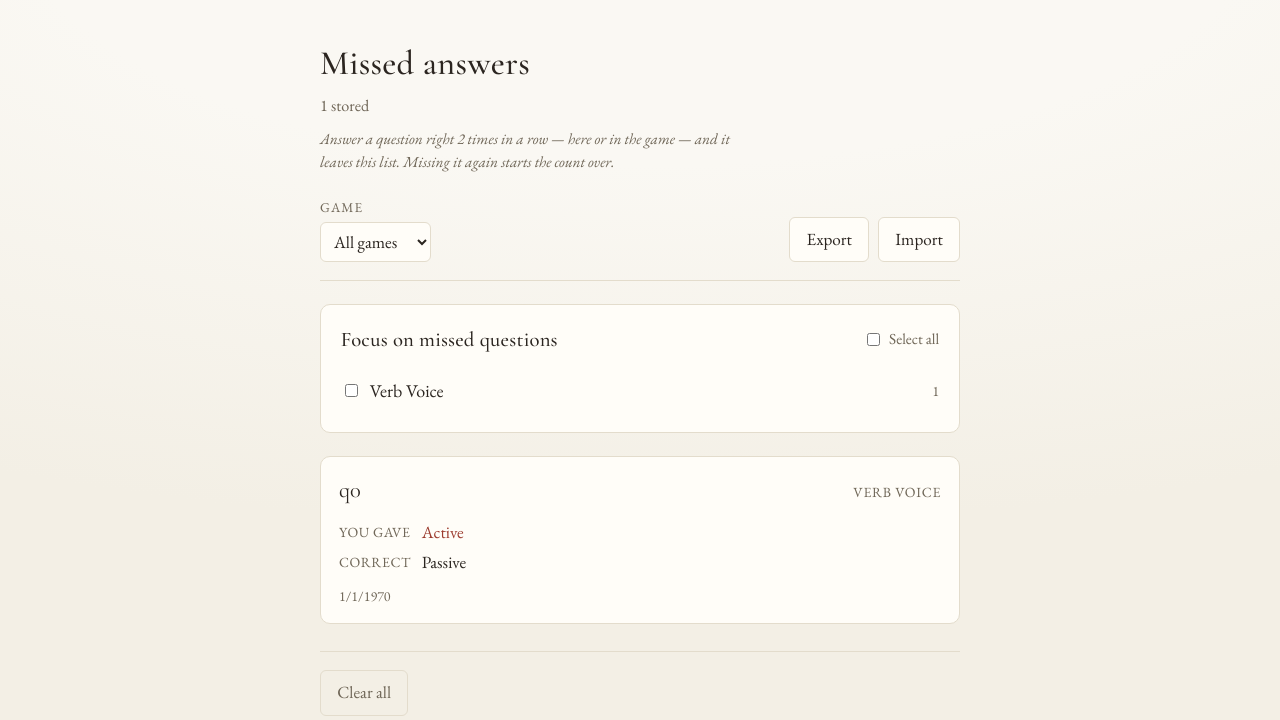
Scenario: Review › keeps everything when the confirmation is cancelled
The width and height of the screenshot is (1280, 720).
Click the button "Clear all" at {"x": 364, "y": 693}, box [320, 670, 408, 716]
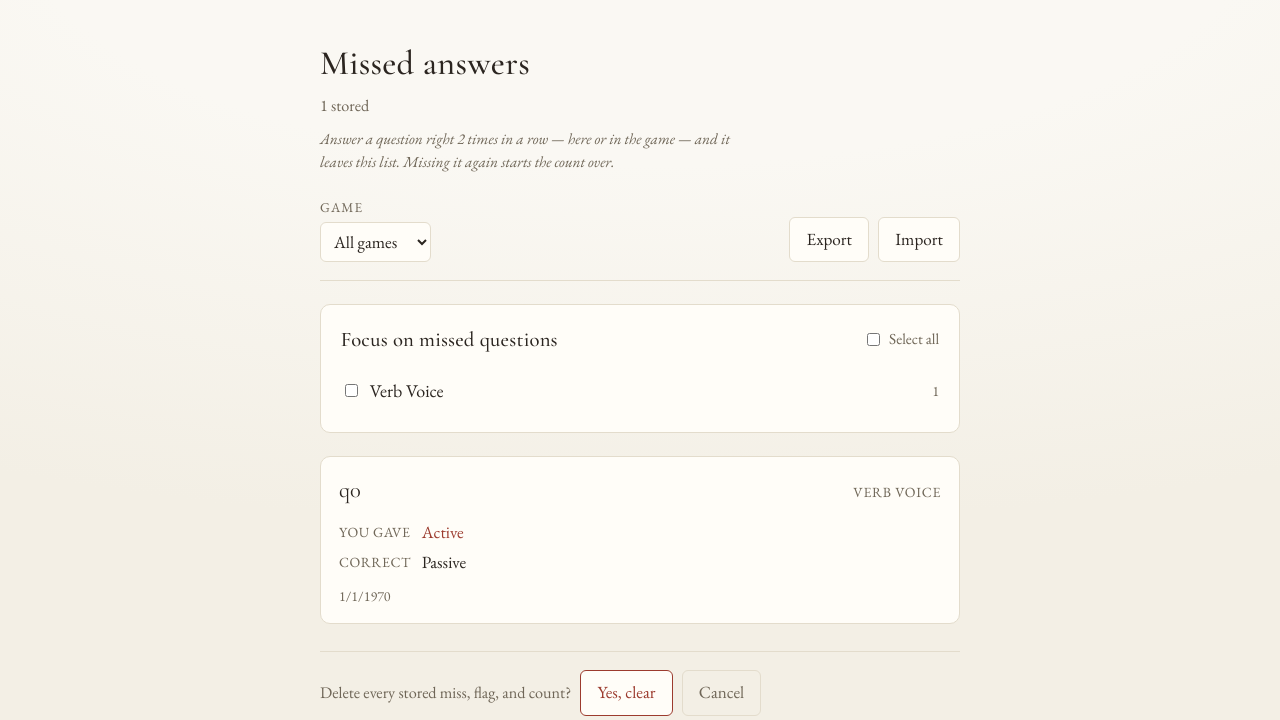
Click the button "Cancel" at {"x": 722, "y": 693}, box [682, 670, 761, 716]
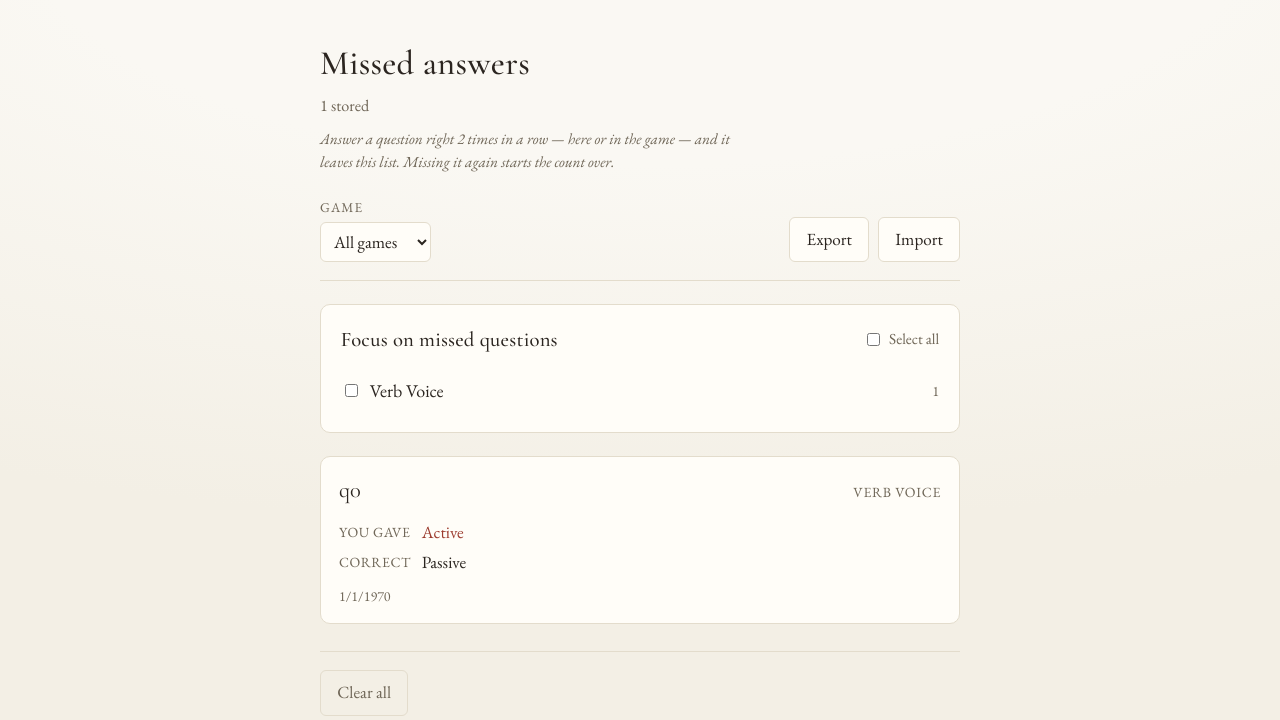
Check: the button "Clear all" is shown, box [320, 670, 408, 716]
